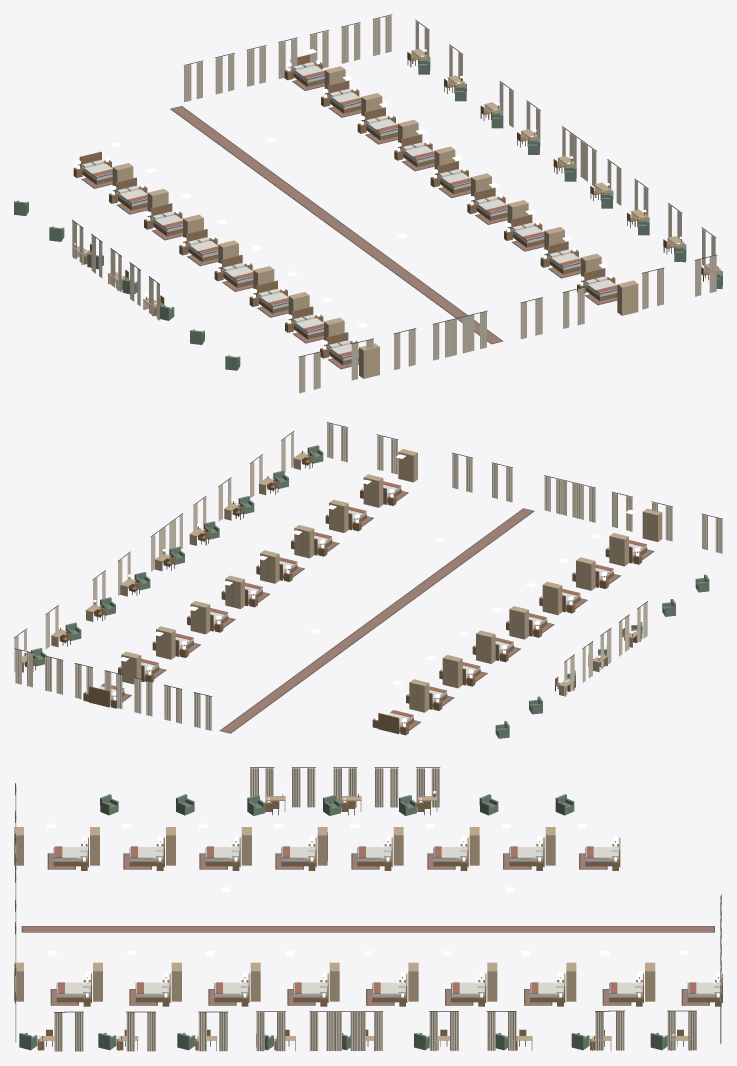
Rendered from fine-s2.glb.
3 views of the same model, one above another, from view 1: azimuth 30°, elevation 25°; view 2: azimuth 150°, elevation 25°; view 3: azimuth 270°, elevation 25° (orthographic). The views are drawn at different scales.
Visible parts, largest first — view 1: soft-s2, dresser.033, dresser.024; view 2: soft-s2, dresser.017, dresser.018, dresser.021, dresser.024, dresser.027, dresser.030, dresser.032, dresser.022, dresser.023, dresser.020, dresser.019 (+6 smaller); view 3: soft-s2.
Boxes of the visible parts, x1,y1,x2,y2 form: soft-s2: (72, 14, 716, 393); dresser.033: (617, 280, 638, 315); dresser.024: (359, 343, 379, 378); soft-s2: (14, 422, 722, 733); dresser.017: (409, 679, 429, 712); dresser.018: (442, 655, 462, 688); dresser.021: (542, 581, 562, 615); dresser.024: (642, 508, 662, 541); dresser.027: (190, 601, 210, 634); dresser.030: (294, 525, 314, 558); dresser.032: (363, 474, 383, 507); dresser.022: (576, 557, 595, 590); dresser.023: (609, 533, 628, 566); dresser.020: (509, 606, 528, 639); dresser.019: (476, 630, 495, 663); soft-s2: (15, 767, 721, 1051).
Bounding box in the file's own units: 34.54 × 2.66 × 42.24.
